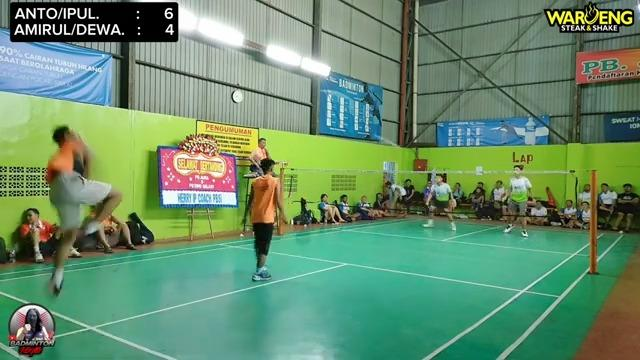Shuttlecock: (382, 136, 402, 153)
